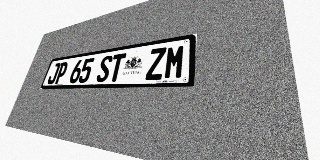5: (78, 58, 95, 83)
6: (68, 59, 85, 83)
J: (46, 63, 61, 84)
M: (163, 44, 186, 79)
P: (54, 62, 69, 84)
S: (95, 55, 113, 82)
T: (107, 53, 126, 82)
Z: (145, 47, 167, 80)
